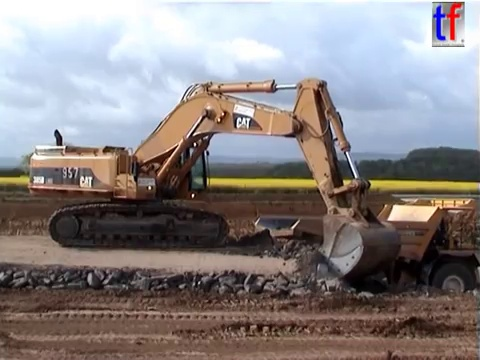excavator: (24, 75, 404, 286)
truck: (250, 195, 480, 318)
